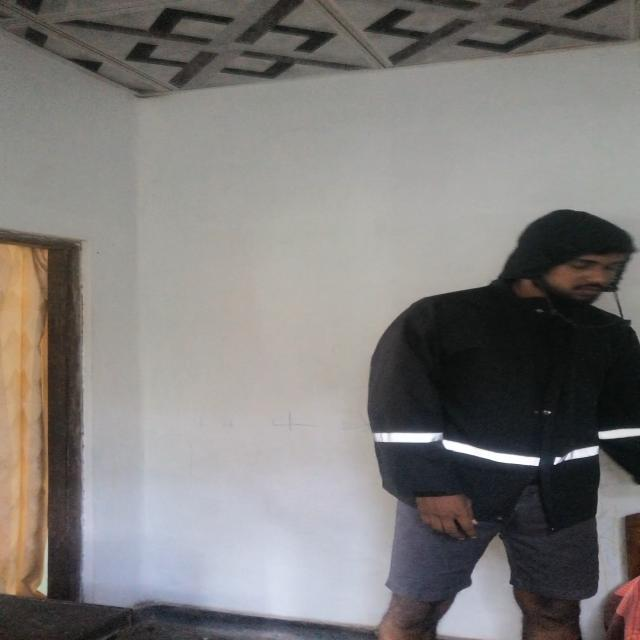Jacket_Wearer: (371, 220, 640, 529)
